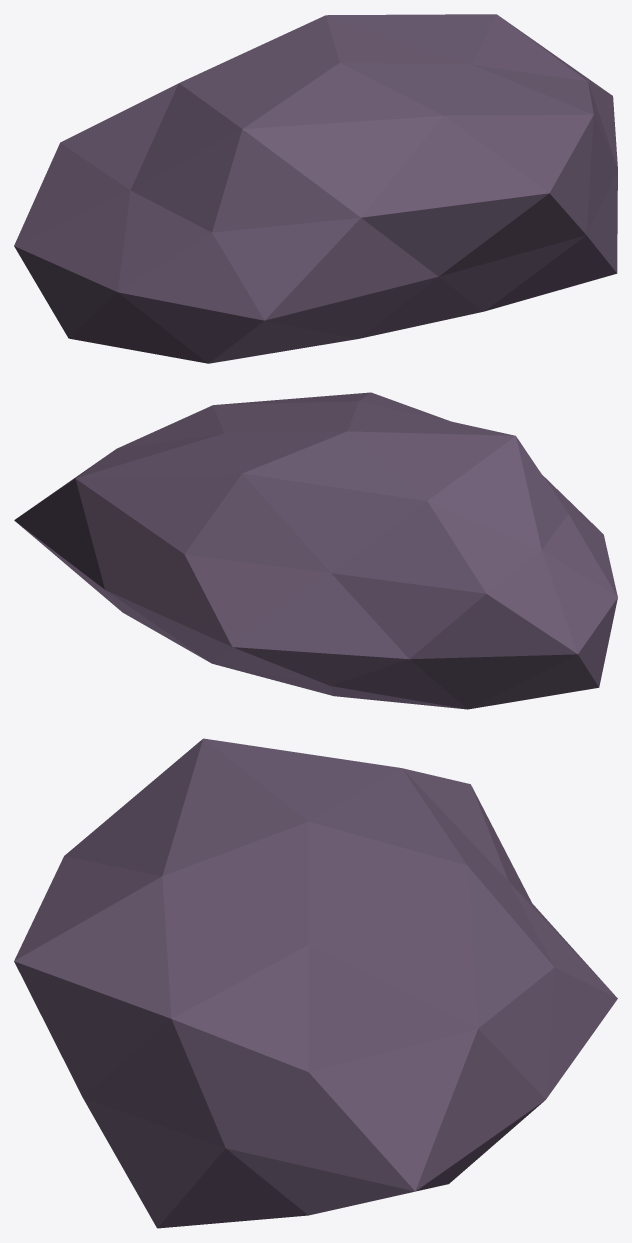
The model's file is rock_1.glb.
The picture shows the model from 3 angles, top to bottom: view 1: azimuth 30°, elevation 25°; view 2: azimuth 150°, elevation 25°; view 3: azimuth 270°, elevation 25°; orthographic projection. The views are drawn at different scales.
Parts seen in each view (by area): view 1: rock_1; view 2: rock_1; view 3: rock_1.
Boxes of the visible parts, x1,y1,x2,y2 form: rock_1: [14, 14, 617, 363]; rock_1: [14, 392, 617, 709]; rock_1: [14, 738, 617, 1228].
Size of the model in its own units: 2.67 by 0.9432 by 1.85.
